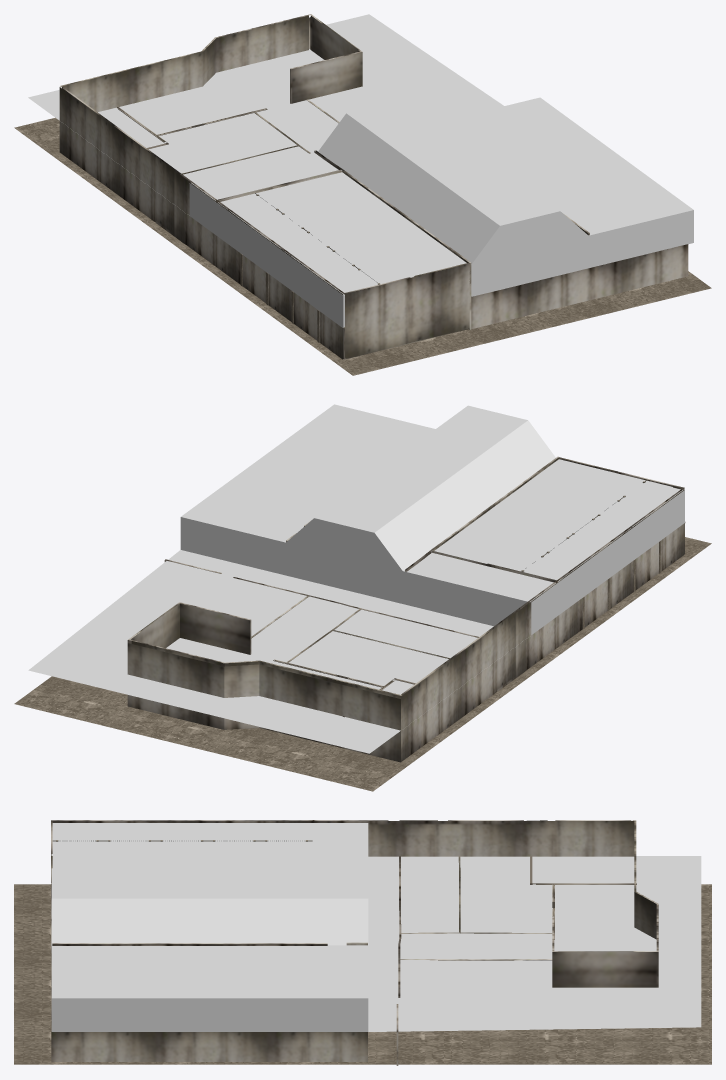
File: blockoutWiezenie 1.fbx
3 renders of one model, top to bottom at view 1: azimuth 30°, elevation 25°; view 2: azimuth 150°, elevation 25°; view 3: azimuth 270°, elevation 25°, orthographic. The views are drawn at different scales.
Parts seen in each view (by area): view 1: Plane.001, Cube.006, Plane; view 2: Plane.001, Cube.006, Plane; view 3: Plane.001, Cube.006, Plane.
Part boxes in pixels (bbox=[...]): Plane.001: bbox=[28, 14, 693, 328]; Cube.006: bbox=[59, 14, 688, 359]; Plane: bbox=[14, 117, 711, 375]; Plane.001: bbox=[28, 404, 684, 753]; Cube.006: bbox=[127, 456, 684, 762]; Plane: bbox=[14, 537, 711, 791]; Plane.001: bbox=[51, 823, 701, 1031]; Cube.006: bbox=[51, 820, 658, 1065]; Plane: bbox=[14, 884, 711, 1064].
Bounding box in the file's own units: 3427 × 902 × 5580.
20 materials, 18 textured.
